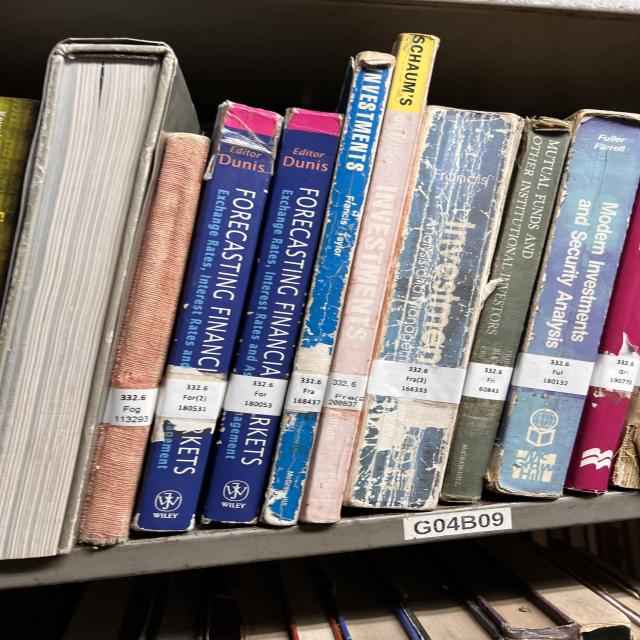Book: (345, 106, 523, 510), (300, 34, 438, 524), (260, 51, 395, 525), (133, 102, 282, 531), (488, 110, 638, 498), (202, 110, 340, 524), (78, 132, 210, 545), (442, 118, 572, 502), (565, 194, 640, 494)
Label: (367, 360, 467, 404), (512, 352, 595, 396), (155, 379, 227, 420), (223, 374, 288, 416), (102, 388, 158, 426), (462, 362, 513, 401), (590, 354, 640, 392), (323, 372, 368, 411), (285, 372, 328, 412)
